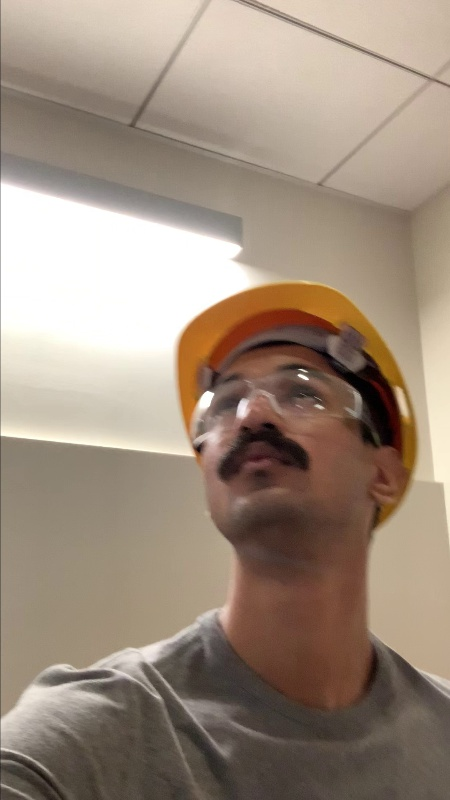glasses: (186, 370, 371, 430)
helmet: (164, 282, 405, 370)
